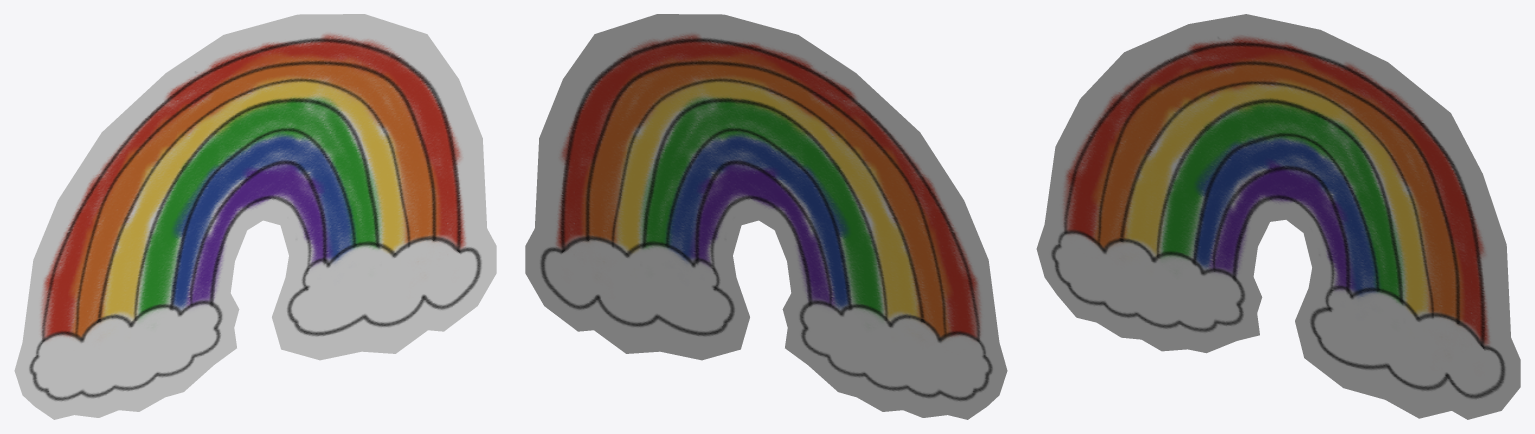
Rendered from Regnbage.fbx.
3 views of the same model, side by side, from view 1: azimuth 30°, elevation 25°; view 2: azimuth 150°, elevation 25°; view 3: azimuth 330°, elevation 25° (orthographic).
Parts seen in each view (by area): view 1: Regnbåge; view 2: Regnbåge; view 3: Regnbåge.
Boxes of the visible parts, x1=… form: Regnbåge: x1=14, y1=14, x2=496, y2=419; Regnbåge: x1=525, y1=14, x2=1007, y2=419; Regnbåge: x1=1036, y1=14, x2=1520, y2=419.
Size of the model in its own units: 39.65 by 28.56 by 4.65e-06.
Materials: 1 (1 with a texture image).
